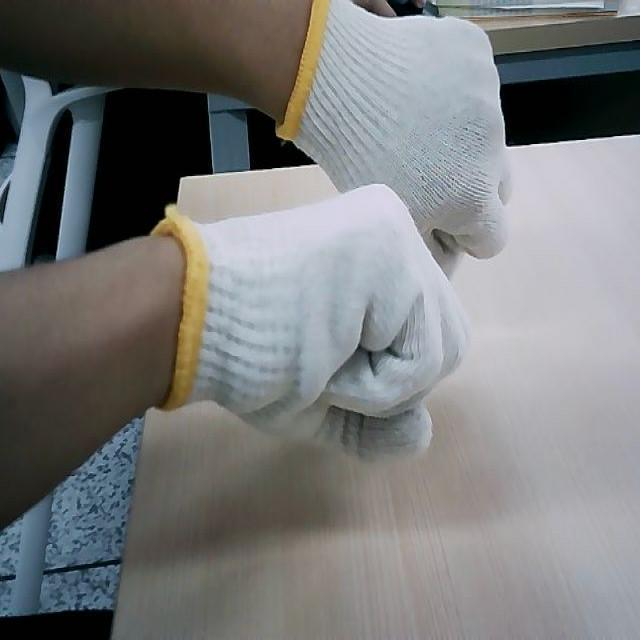gloved_hand: (178, 185, 471, 463), (279, 3, 510, 175)
